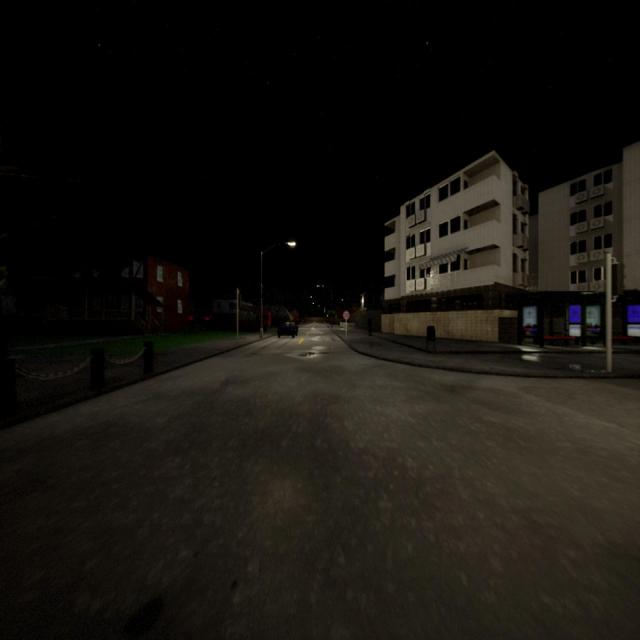Traffic_Signs: (342, 311, 350, 320)
Vehicle: (278, 321, 298, 338)
traffic_light: (612, 262, 622, 297)
